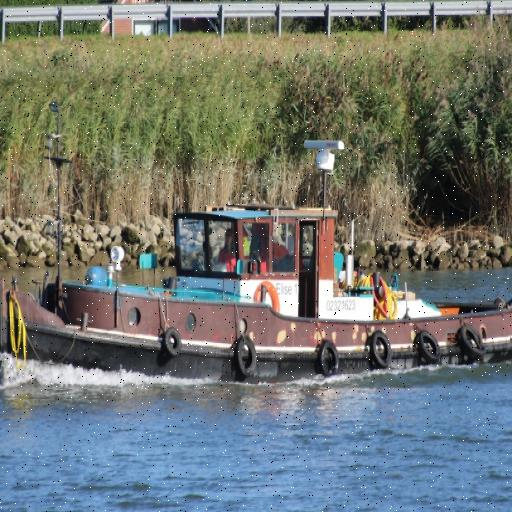tugboat: (1, 100, 512, 400)
